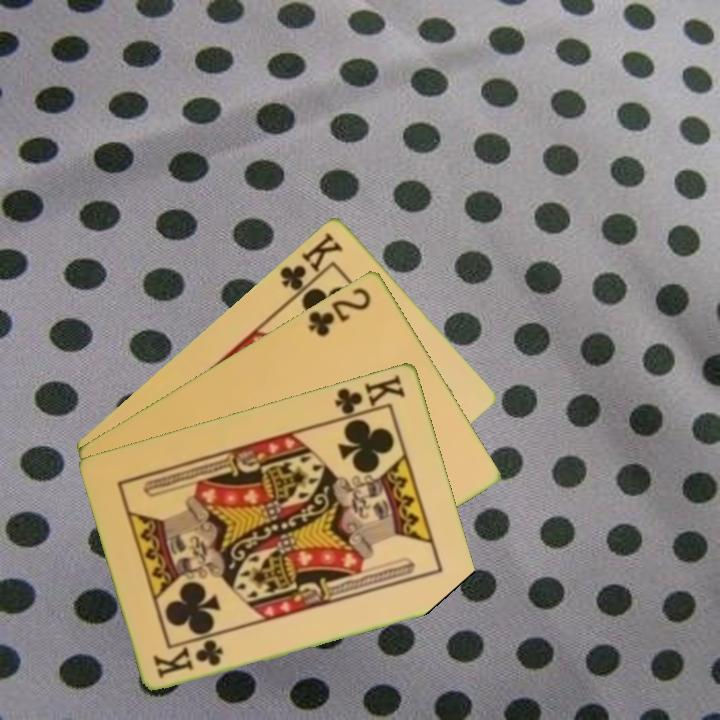2c: (304, 283, 374, 340)
Kc: (276, 228, 346, 302), (331, 371, 409, 422), (150, 636, 227, 681)
